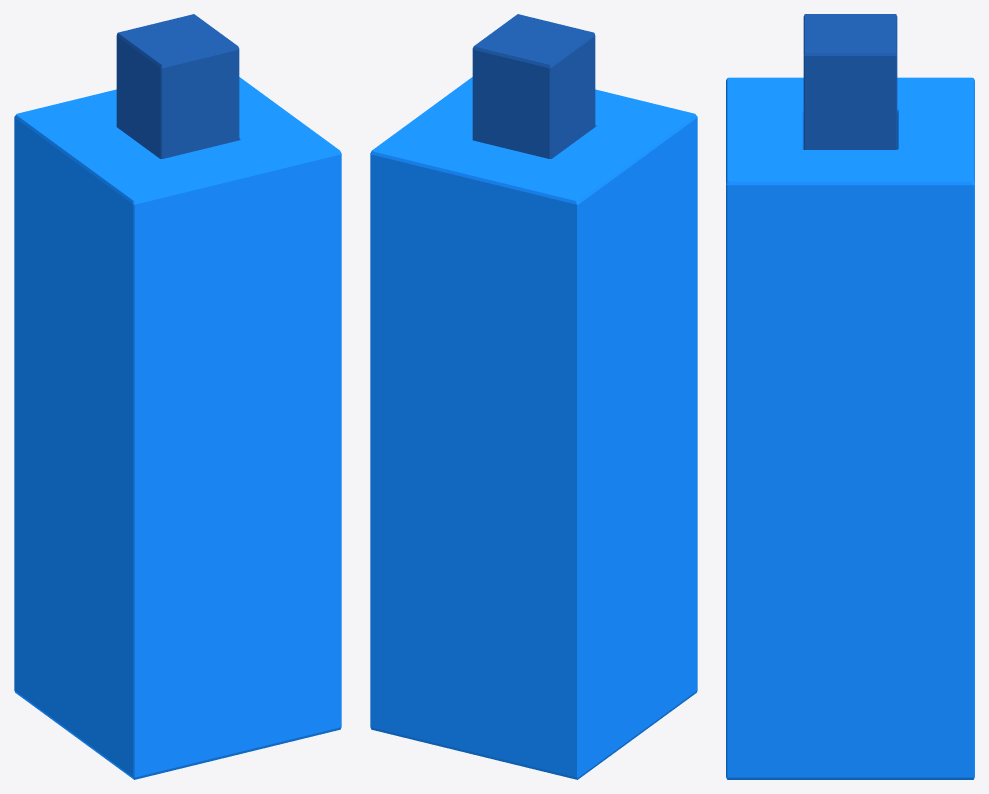
File: Unity_PruebaEnsamblajeEspiga.fbx
3 renders of one model, left to right at view 1: azimuth 30°, elevation 25°; view 2: azimuth 150°, elevation 25°; view 3: azimuth 270°, elevation 25°, orthographic. The views are drawn at different scales.
Visible parts, largest first — view 1: PruebaEnsamblajeEspiga, Cube; view 2: PruebaEnsamblajeEspiga, Cube; view 3: PruebaEnsamblajeEspiga, Cube.
Boxes of the visible parts, box(x1,y1,x2,y2) form: PruebaEnsamblajeEspiga: box(14, 77, 341, 779); Cube: box(116, 14, 239, 158); PruebaEnsamblajeEspiga: box(370, 77, 697, 779); Cube: box(472, 14, 595, 158); PruebaEnsamblajeEspiga: box(726, 77, 974, 779); Cube: box(803, 14, 897, 149).
Bounding box in the file's own units: 200 × 616 × 200.
